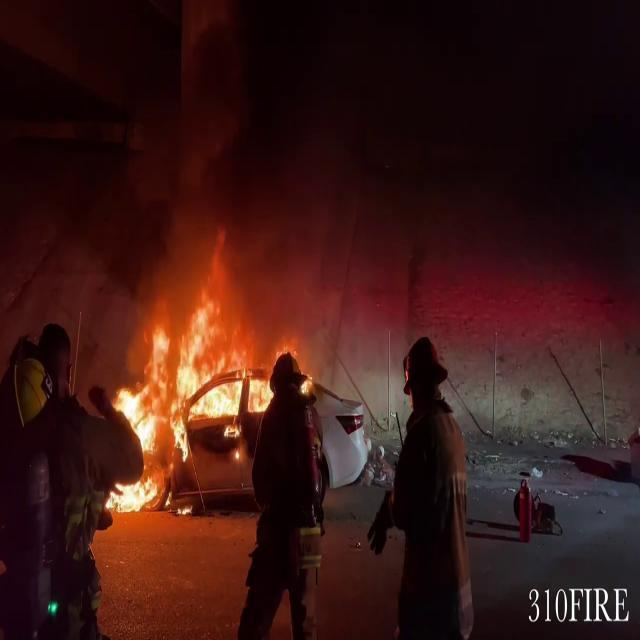Fire: (100, 294, 272, 511)
